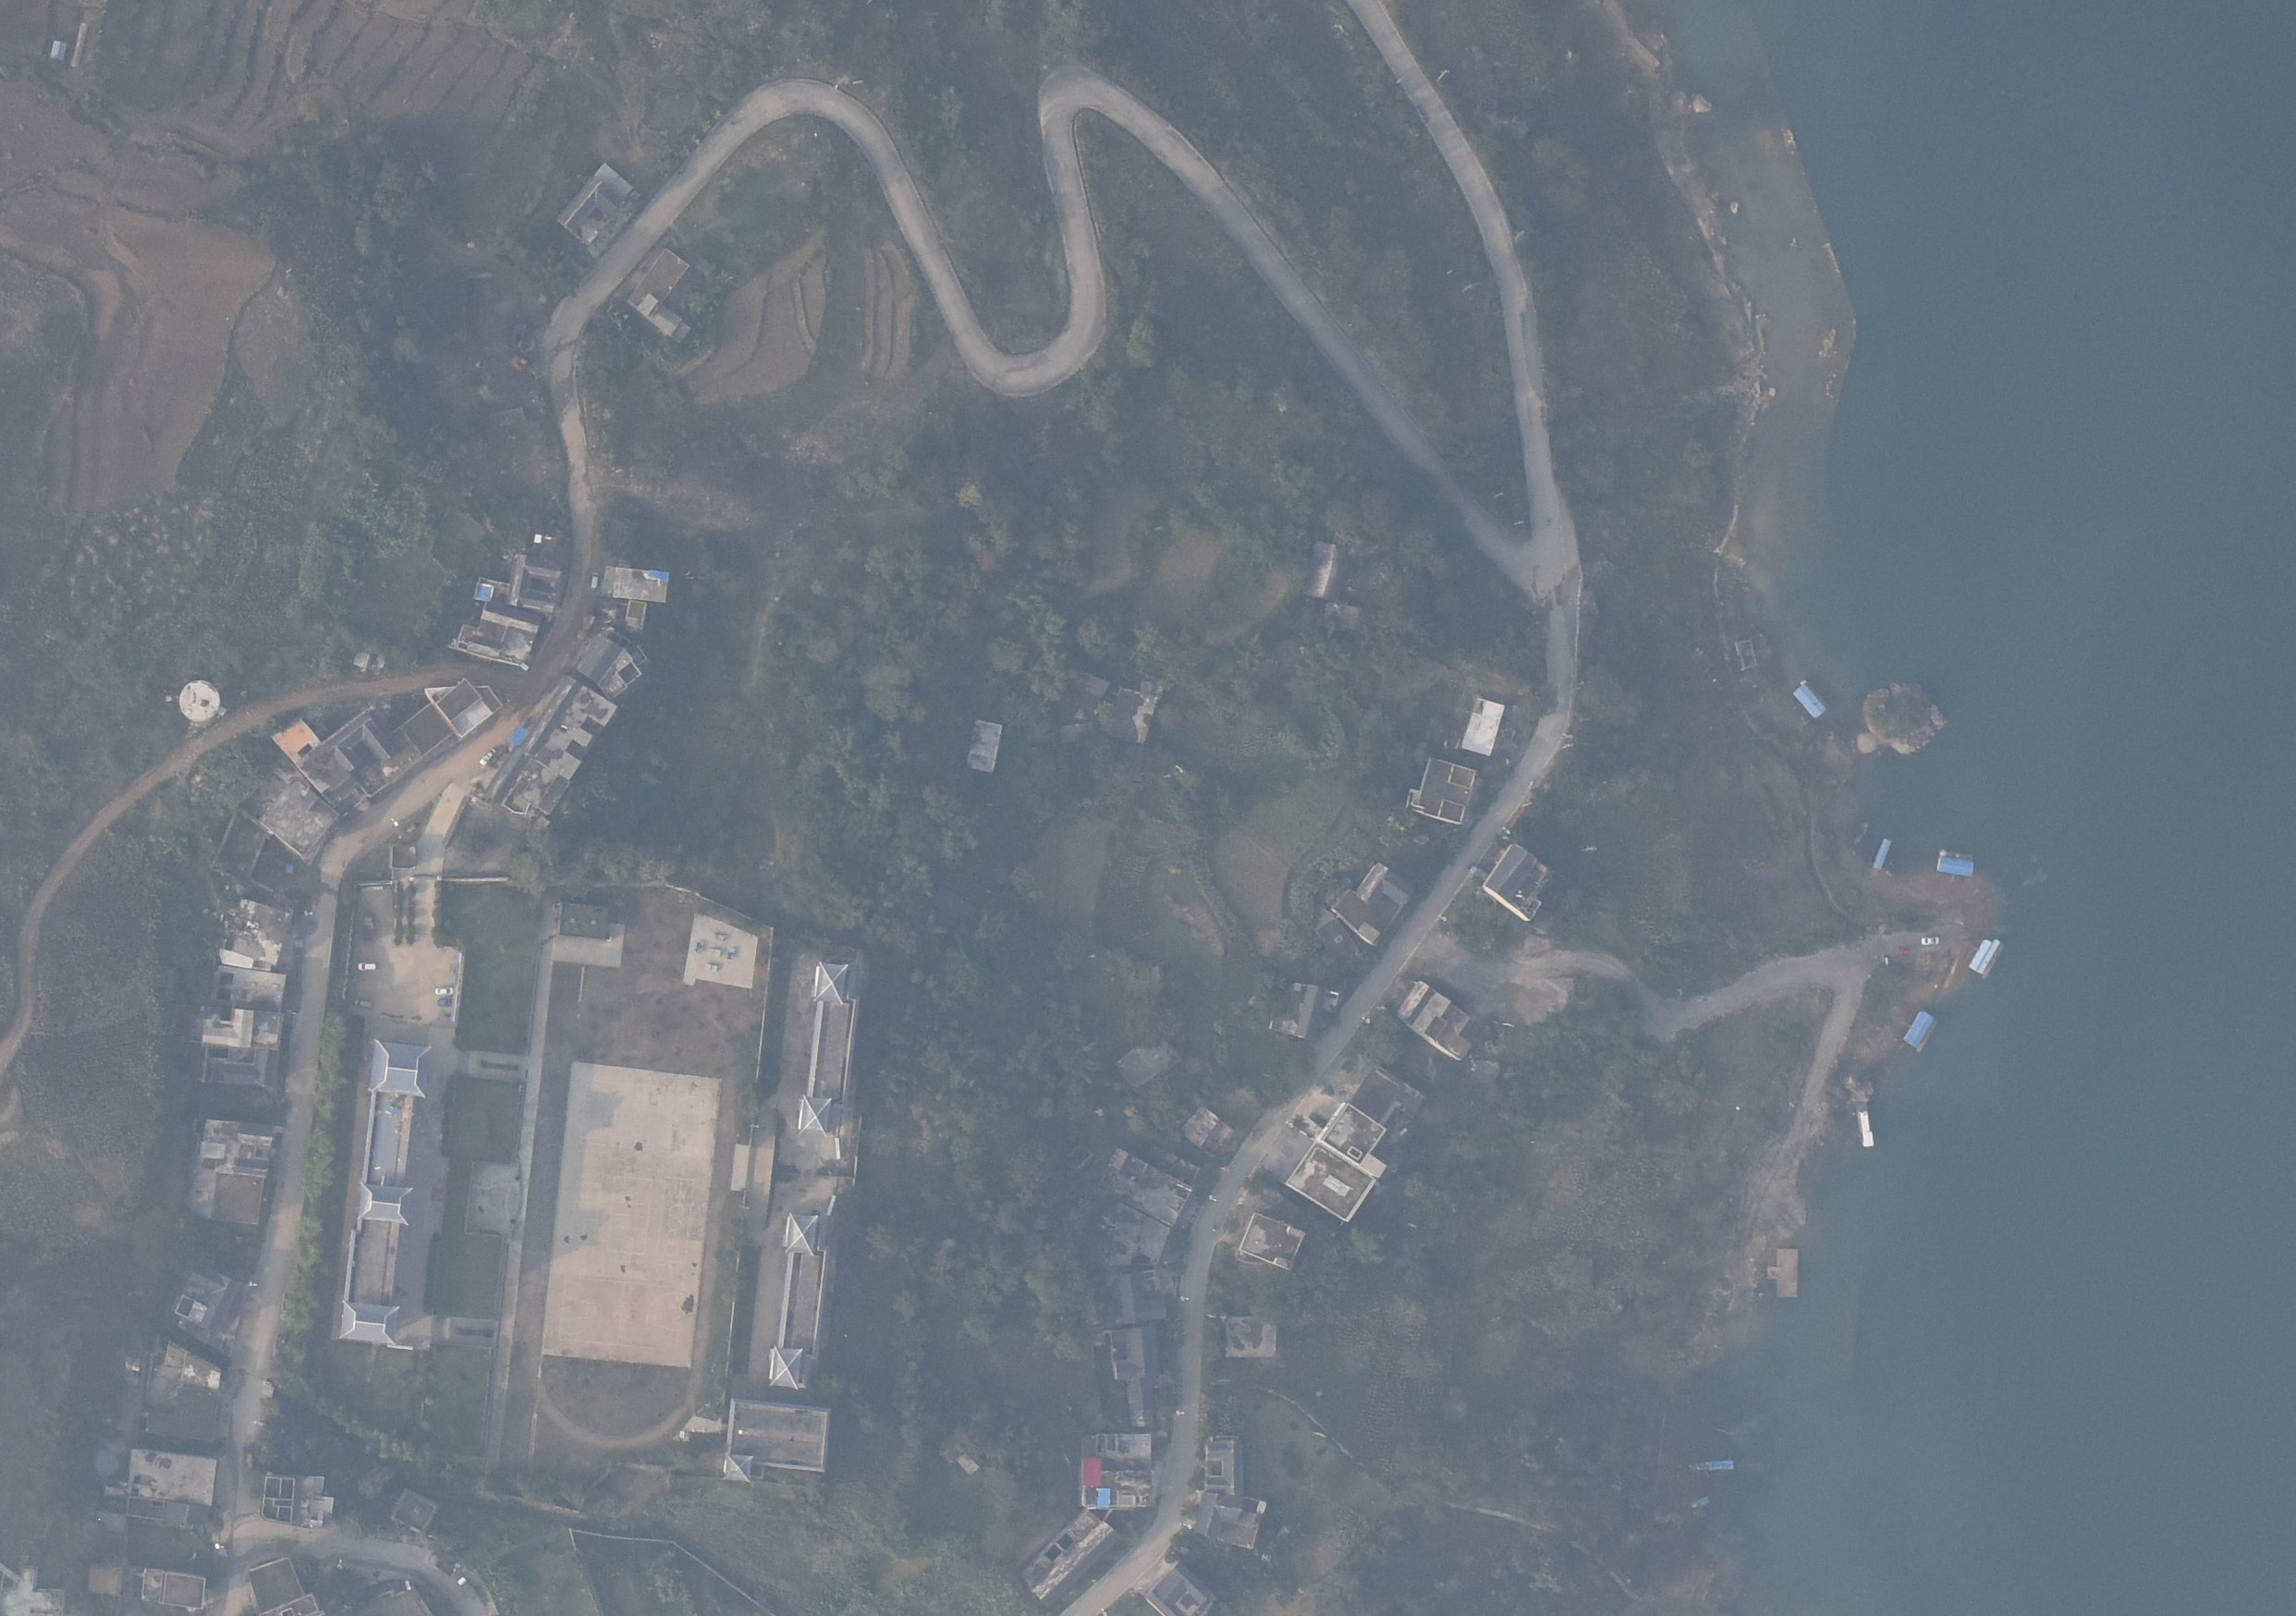building: (336, 1032, 434, 1354), (759, 1202, 836, 1406), (289, 710, 421, 817), (797, 950, 857, 1156), (719, 1392, 839, 1488), (1012, 1508, 1121, 1611), (525, 673, 621, 784), (558, 168, 647, 261), (1098, 1144, 1193, 1229), (1282, 1139, 1380, 1219), (1329, 862, 1416, 950), (481, 749, 575, 825), (257, 778, 343, 862), (623, 248, 696, 345), (1397, 979, 1476, 1065), (170, 1266, 247, 1354), (121, 1446, 217, 1515), (1346, 1063, 1429, 1135), (1091, 1198, 1173, 1270), (238, 1553, 343, 1609), (1266, 971, 1345, 1044), (1203, 1299, 1278, 1373), (220, 895, 301, 964), (421, 677, 505, 742), (1404, 754, 1479, 825), (143, 1383, 231, 1445), (577, 626, 649, 700), (453, 612, 539, 673), (261, 1471, 336, 1537), (198, 1118, 278, 1179), (1318, 1104, 1385, 1177), (205, 958, 292, 1013), (1046, 661, 1112, 731), (1486, 845, 1546, 918), (1144, 1560, 1221, 1616), (504, 551, 565, 621), (1236, 1210, 1306, 1271), (343, 1574, 442, 1616), (1114, 1035, 1186, 1093), (1072, 1462, 1159, 1509), (1079, 1431, 1159, 1480), (196, 1007, 287, 1049), (205, 1172, 273, 1228), (1109, 1266, 1170, 1327), (1102, 682, 1156, 750), (1109, 1324, 1170, 1383), (196, 1048, 278, 1091), (1194, 1492, 1264, 1543), (136, 1569, 212, 1613), (1458, 696, 1507, 763), (400, 701, 455, 759), (119, 1495, 203, 1532), (1198, 1432, 1243, 1499), (603, 563, 675, 605), (1305, 537, 1346, 605), (388, 1487, 441, 1539), (268, 719, 322, 770), (962, 719, 1005, 778), (1179, 1105, 1231, 1154), (477, 600, 546, 635), (180, 1350, 226, 1396), (1763, 1247, 1798, 1298), (1322, 600, 1367, 637), (1124, 1378, 1156, 1431), (472, 574, 509, 605), (87, 1564, 124, 1595)
prefabricated-house: (1784, 680, 1829, 722), (1934, 848, 1981, 883), (1903, 1009, 1941, 1051), (1969, 936, 2004, 978), (1873, 836, 1890, 869)
ship: (1679, 1457, 1749, 1474), (1855, 1102, 1878, 1154), (1686, 1490, 1719, 1511)
vehicle: (1305, 1107, 1332, 1132), (477, 745, 498, 766), (1467, 864, 1490, 883), (432, 983, 456, 997), (1918, 934, 1943, 948), (588, 570, 602, 593), (355, 960, 379, 972), (353, 997, 374, 1009), (435, 995, 455, 1007)
well: (173, 673, 222, 724)
